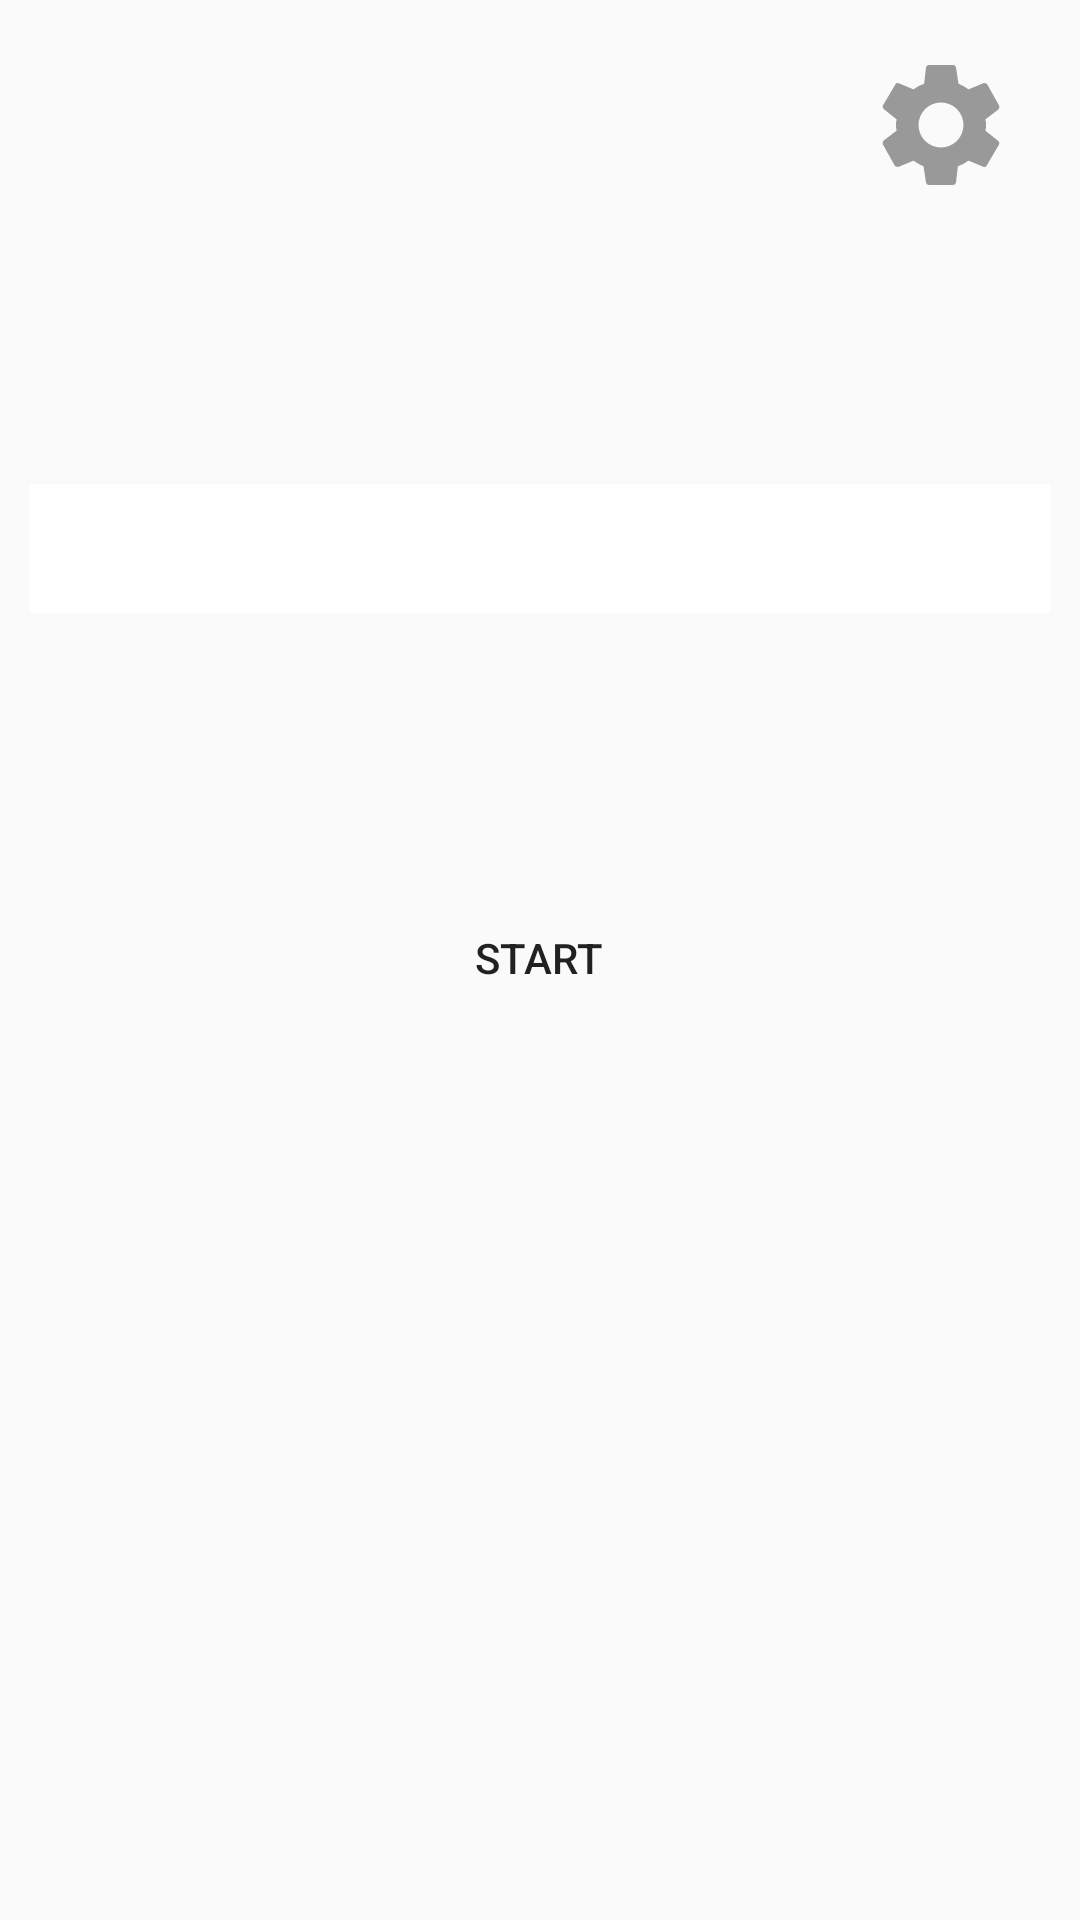

Screen size 1080px×1920px. Icon name, then its center in pixels as (x=x, y=y):
settings: (x=941, y=125)
